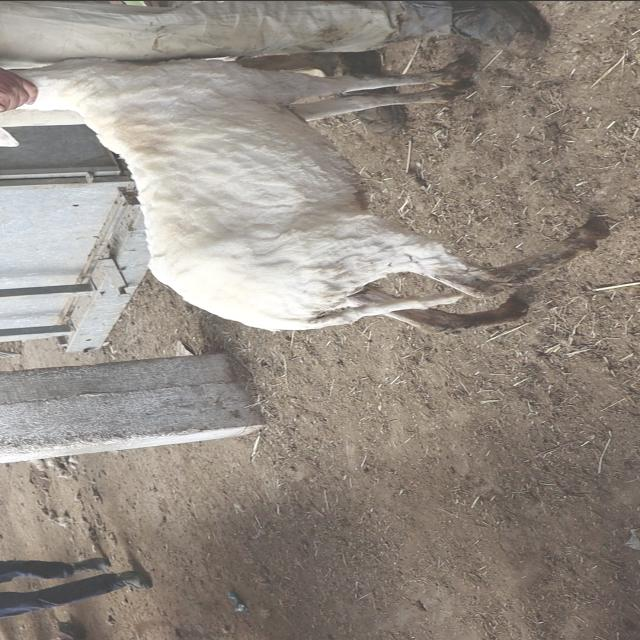Score_4: (14, 58, 607, 332)
